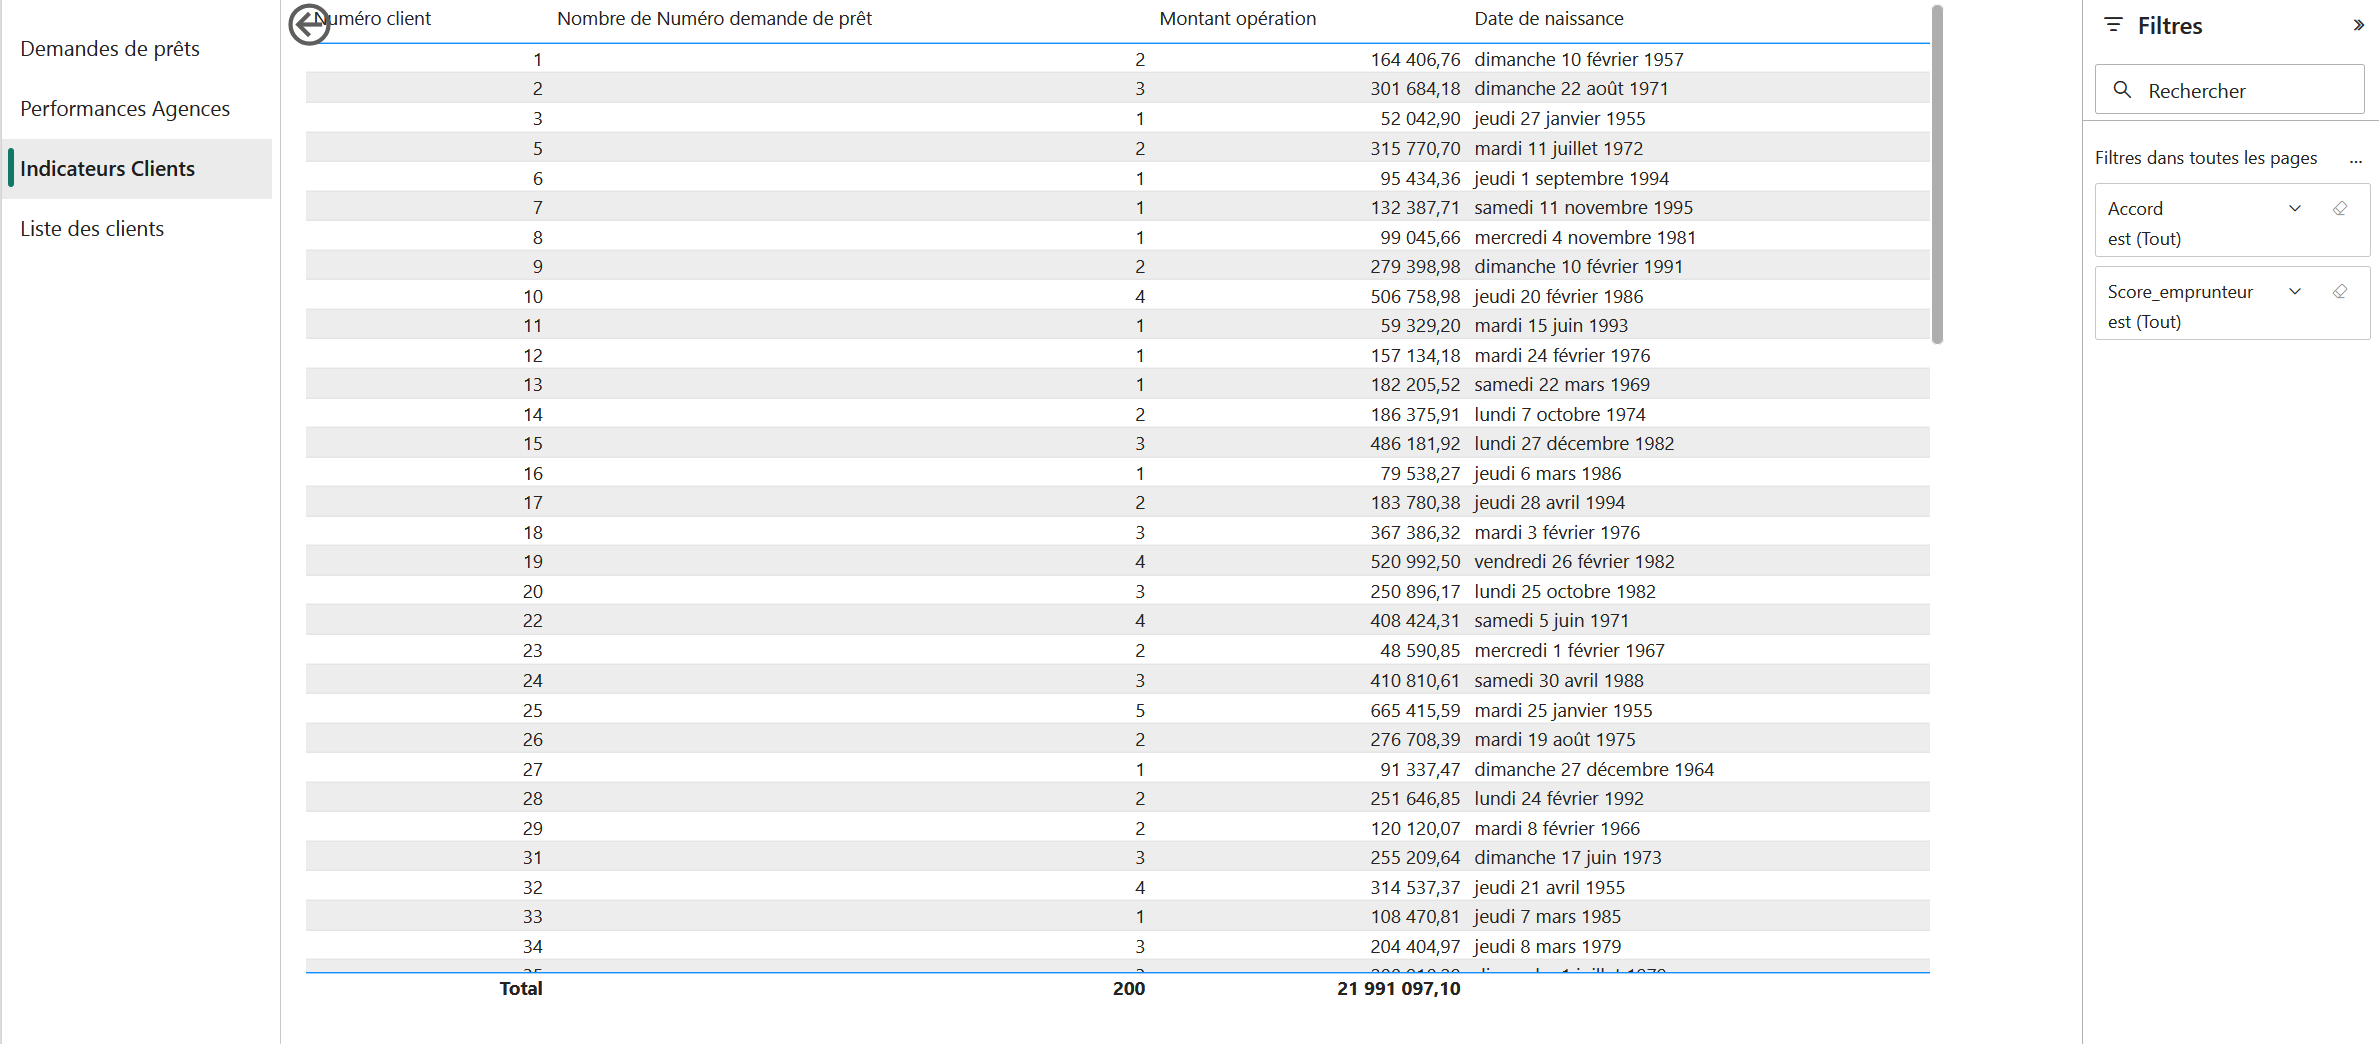

The page's visual inventory and layout, read from the dashboard file:
{"tool":"powerbi","page":{"name":"Indicateurs Clients","canvas":[1280,720],"ordinal":2},"visuals":[{"type":"tableEx","fields":{"Values":["Demandes de pret.Numéro client","Demandes de pret.Numéro demande de prêt","Sum(Demandes de pret.Montant opération)","Situation famille.Date de naissance"]},"box":[11.6,0,1175,719.6],"z":0},{"type":"actionButton","box":[0,0,100,40],"z":1}]}

Visuals, with their boxes on the page's 1280x720 design canvas (x1, y1, x2, y2). These are canvas units, not pixel positions in the 2379x1044 screenshot, which may show the page scaled, cropped or inside an application window:
tableEx - Demandes de pret.Numéro client x Demandes de pret.Numéro demande de prêt: select_region(12, 0, 1187, 720)
actionButton: select_region(0, 0, 100, 40)
